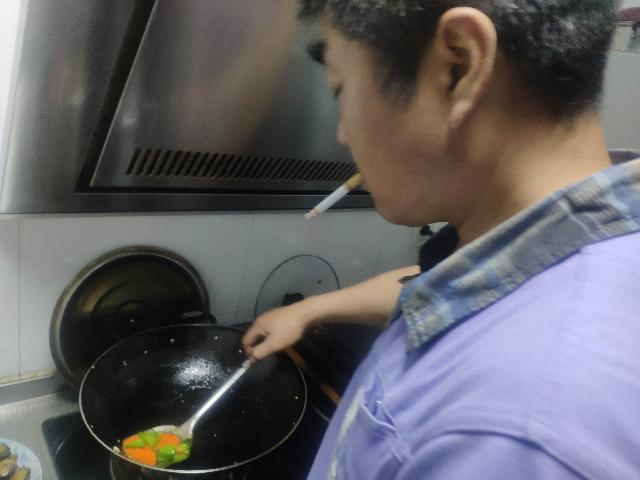Cigarette: (305, 172, 365, 222)
